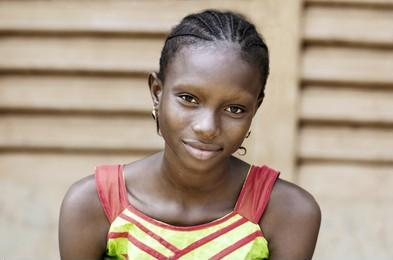face: (161, 64, 256, 171)
